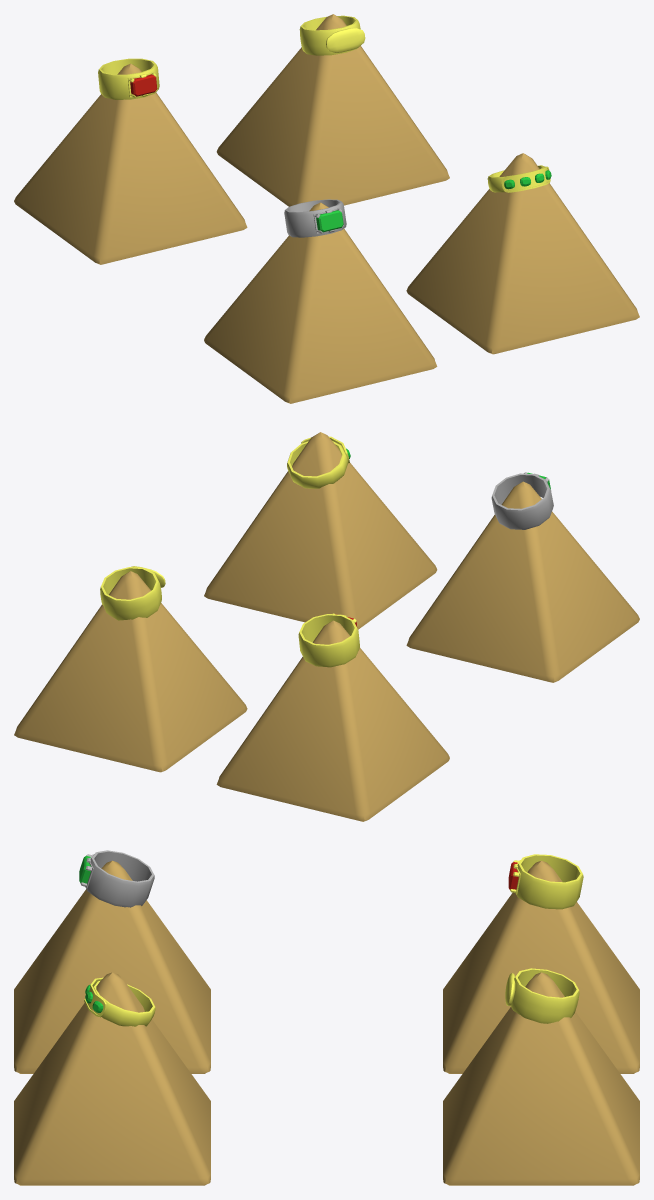
File: Rings_3.fbx
The picture shows the model from 3 angles, top to bottom: view 1: azimuth 30°, elevation 25°; view 2: azimuth 150°, elevation 25°; view 3: azimuth 270°, elevation 25°; orthographic projection. The views are drawn at different scales.
Parts seen in each view (by area): view 1: SM_Ring_Stand_1_2, SM_Ring_Stand_1_1, SM_Ring_Stand_1, SM_Ring_Stand_1_3, SM_Ring_2, SM_Ring_11, SM_Ring_1, SM_Ring_15; view 2: SM_Ring_Stand_1_1, SM_Ring_Stand_1_3, SM_Ring_Stand_1, SM_Ring_Stand_1_2, SM_Ring_11, SM_Ring_2, SM_Ring_1, SM_Ring_15; view 3: SM_Ring_Stand_1_2, SM_Ring_Stand_1_3, SM_Ring_Stand_1_1, SM_Ring_Stand_1, SM_Ring_11, SM_Ring_2, SM_Ring_1, SM_Ring_15.
Boxes of the visible parts, bbox=[...] form: SM_Ring_Stand_1_2: bbox=[406, 153, 639, 354]; SM_Ring_Stand_1_1: bbox=[204, 202, 437, 403]; SM_Ring_Stand_1: bbox=[14, 63, 247, 264]; SM_Ring_Stand_1_3: bbox=[216, 14, 449, 206]; SM_Ring_2: bbox=[98, 58, 159, 99]; SM_Ring_11: bbox=[284, 199, 346, 237]; SM_Ring_1: bbox=[299, 15, 365, 55]; SM_Ring_15: bbox=[487, 165, 551, 192]; SM_Ring_Stand_1_1: bbox=[406, 481, 639, 682]; SM_Ring_Stand_1_3: bbox=[14, 571, 247, 772]; SM_Ring_Stand_1: bbox=[216, 620, 449, 821]; SM_Ring_Stand_1_2: bbox=[204, 432, 437, 629]; SM_Ring_11: bbox=[491, 472, 553, 529]; SM_Ring_2: bbox=[298, 613, 359, 667]; SM_Ring_1: bbox=[100, 566, 165, 620]; SM_Ring_15: bbox=[287, 436, 350, 488]; SM_Ring_Stand_1_2: bbox=[14, 972, 210, 1185]; SM_Ring_Stand_1_3: bbox=[443, 972, 639, 1185]; SM_Ring_Stand_1_1: bbox=[14, 860, 210, 1073]; SM_Ring_Stand_1: bbox=[443, 860, 639, 1073]; SM_Ring_11: bbox=[79, 850, 154, 907]; SM_Ring_2: bbox=[508, 854, 583, 909]; SM_Ring_1: bbox=[505, 968, 579, 1023]; SM_Ring_15: bbox=[84, 977, 155, 1026].
Bounding box in the file's own units: 13.37 × 5.62 × 18.15.
